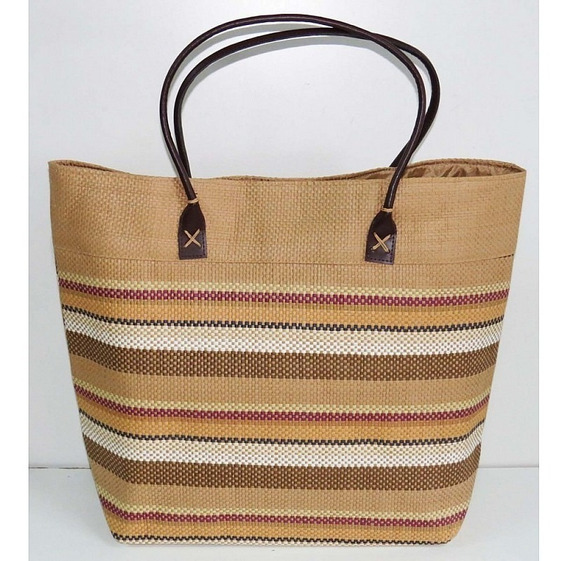cartera: (47, 11, 527, 546)
